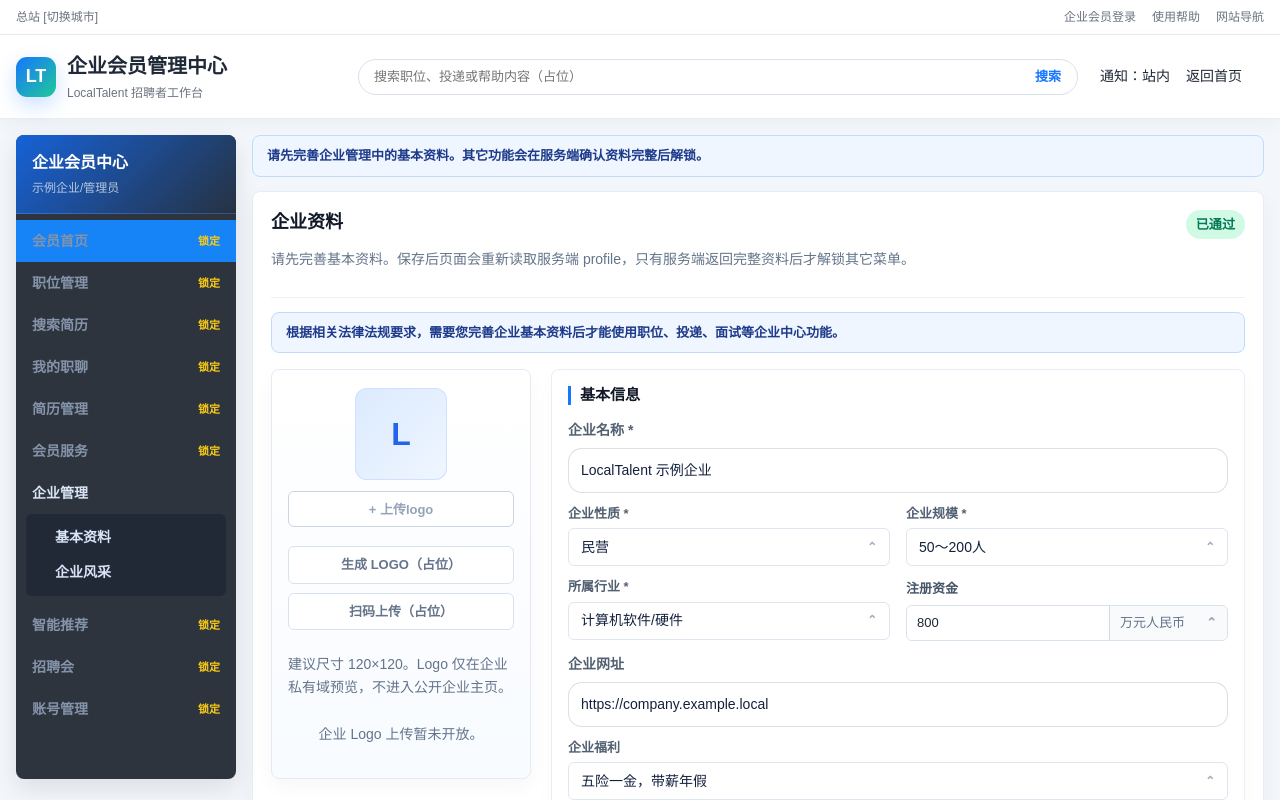
Test case: CompanyDashboard › gates company center tabs until basic profile is complete
Expected: the text "请先完善企业管理中的基本资料。其它功能会在服务端确认资料完整后解锁。" is shown, [252,135,1264,176]
Click the button "职位管理 锁定" at [126, 283], box [16,262,236,304]
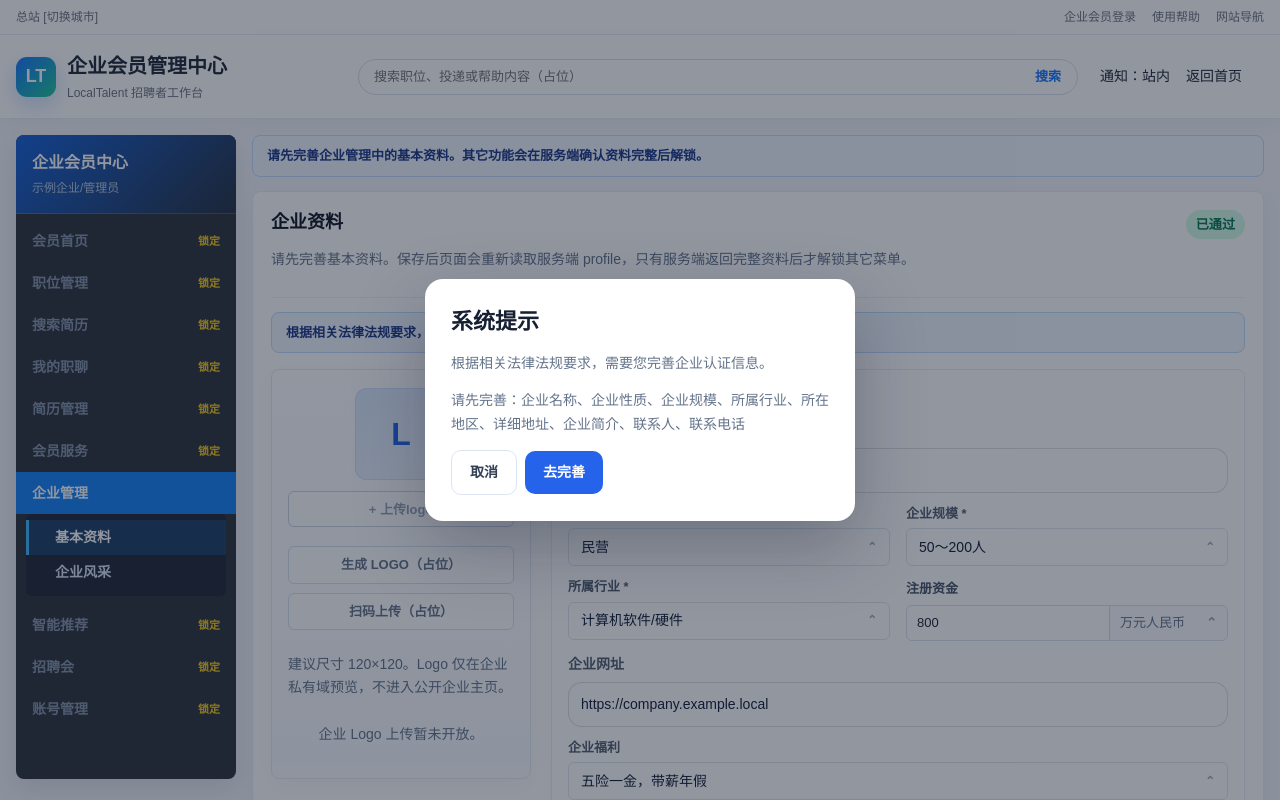
Now the dialog "系统提示" is shown
Now the text "根据相关法律法规要求，需要您完善企业认证信息。" is shown, box [451,352,829,376]
Now the text "请先完善：企业名称、企业性质、企业规模、所属行业、所在地区、详细地址、企业简介、联系人、联系电话" is shown, box [451,390,829,436]
Click the button "去完善" at [564, 472], box [525,451,603,494]
(page scrolled)
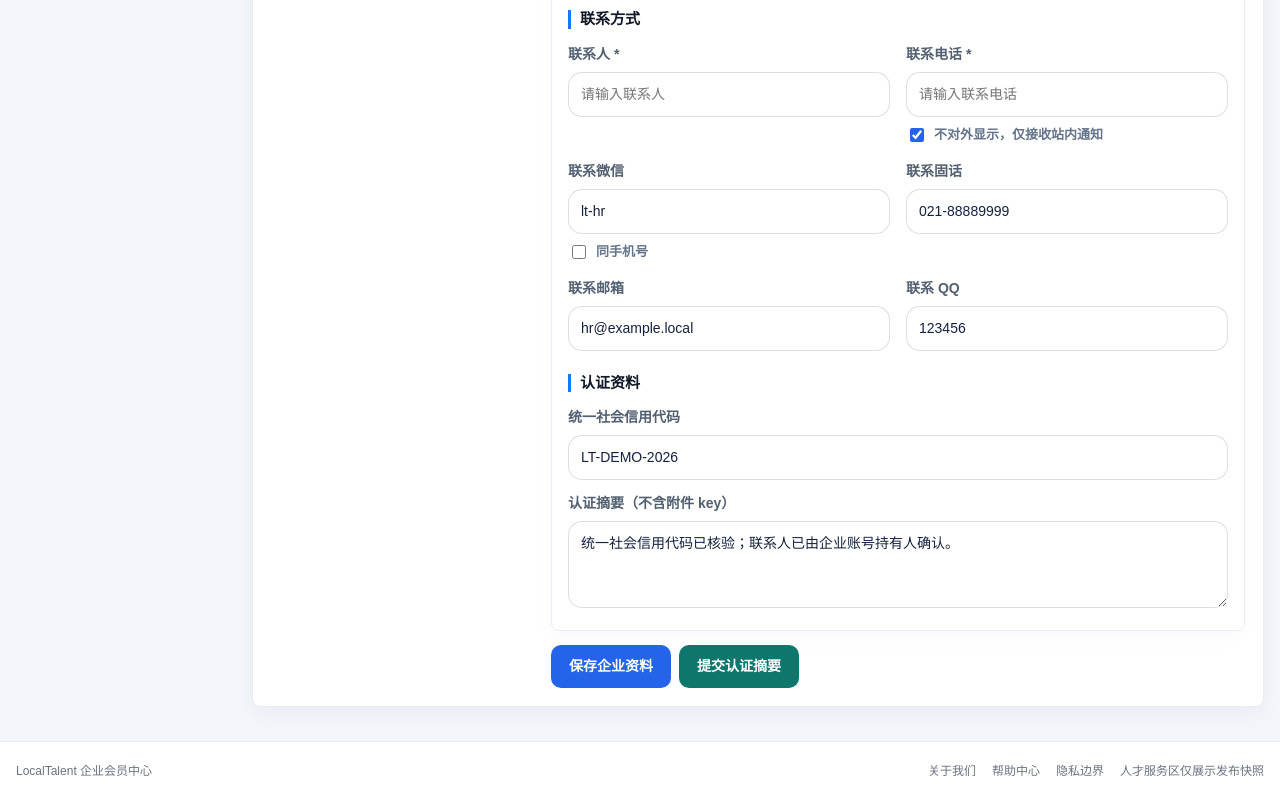
Click the button "保存企业资料" at [611, 667], box [551,645,671,688]
(page scrolled)
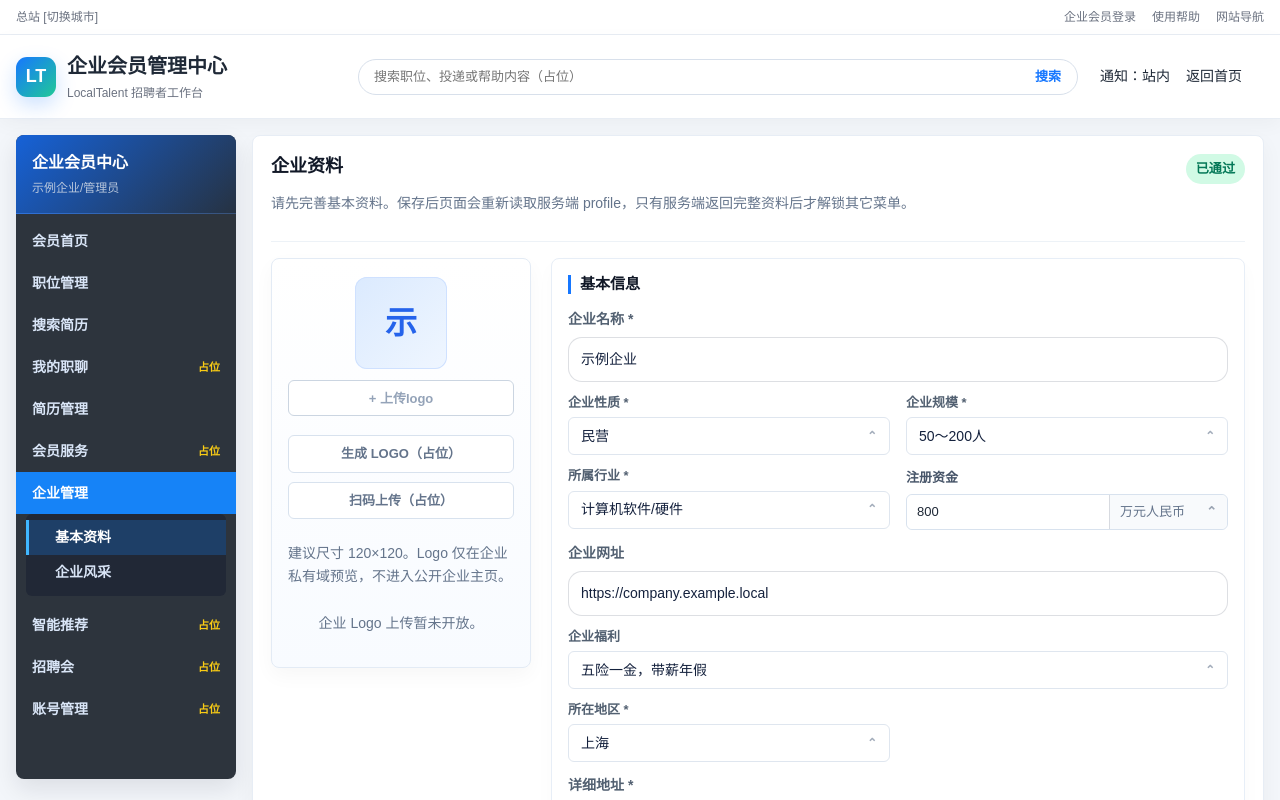
Now the button "职位管理" is shown, box [16,262,236,304]
